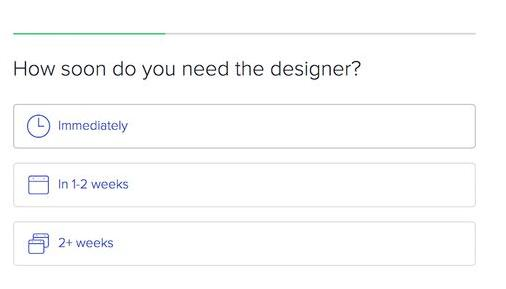button: (12, 103, 478, 150), (12, 221, 477, 267), (13, 162, 477, 208)
